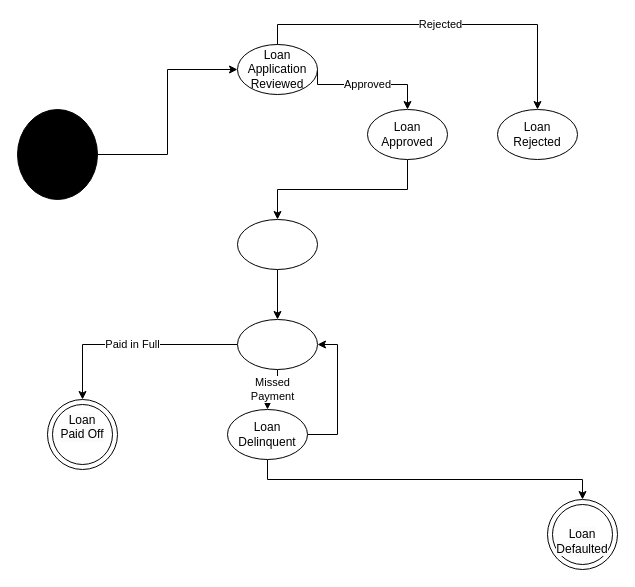
The diagram is 635 pixels wide and 587 high, and some of its shapes have lost their labels. Each missing label, with the centre of its shape:
"Loan Active" belongs at point (277, 344).
"Loan Application Submitted (START)" belongs at point (57, 154).
"Loan Disbursed" belongs at point (277, 244).
